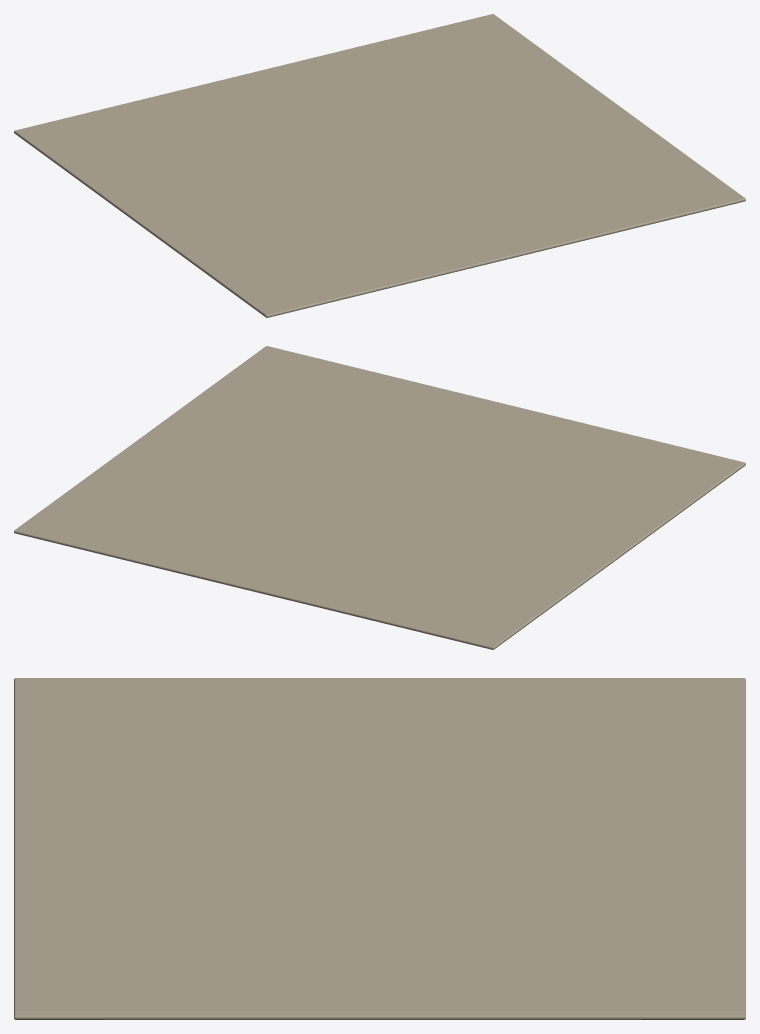
Rendered from oat-rug.glb.
3 renders of one model, top to bottom at view 1: azimuth 30°, elevation 25°; view 2: azimuth 150°, elevation 25°; view 3: azimuth 270°, elevation 25°, orthographic. The views are drawn at different scales.
Parts seen in each view (by area): view 1: Flat woven rug; view 2: Flat woven rug; view 3: Flat woven rug.
Part boxes in pixels (x1,y1,x2,y2): Flat woven rug: (14, 14, 745, 317); Flat woven rug: (14, 346, 745, 649); Flat woven rug: (14, 678, 745, 1019).
Bounding box in the file's own units: 2.3 × 0.014 × 2.1.
